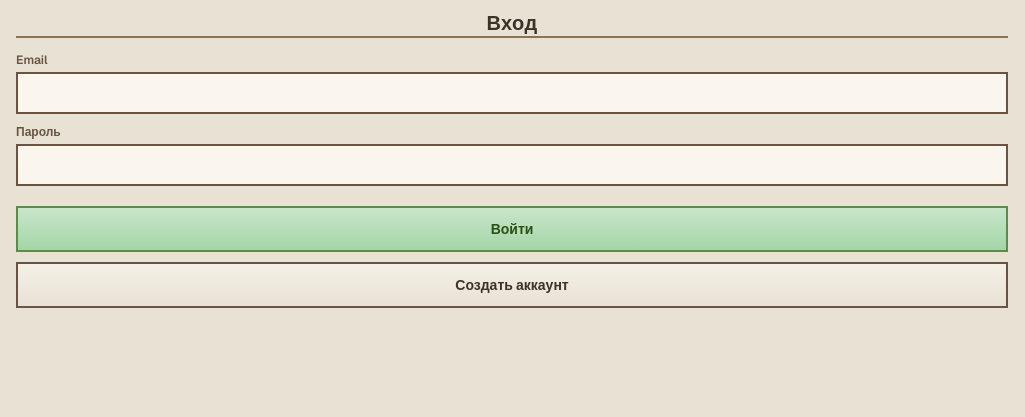
Test case: LoginView › показывает ошибку при слишком коротком имени
Click the button "Создать аккаунт": (512,285) [16, 262, 1008, 308]
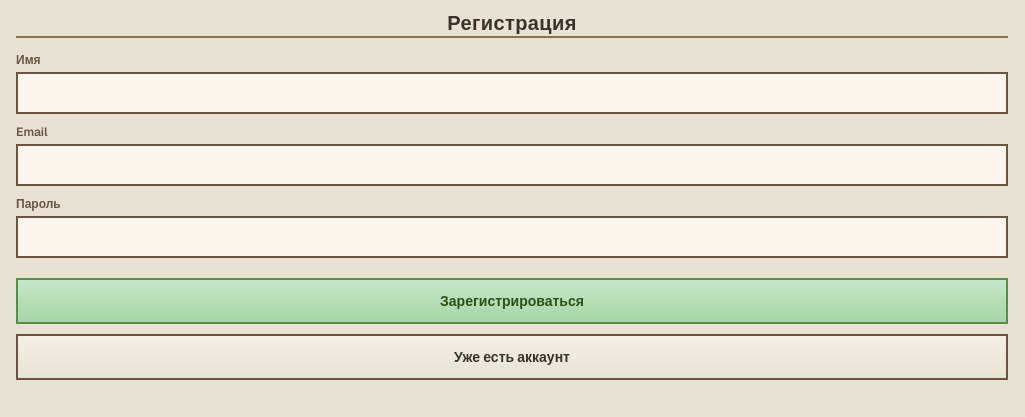
In the field labelled "Имя": (512,93) [16, 72, 1008, 114], type "ab"
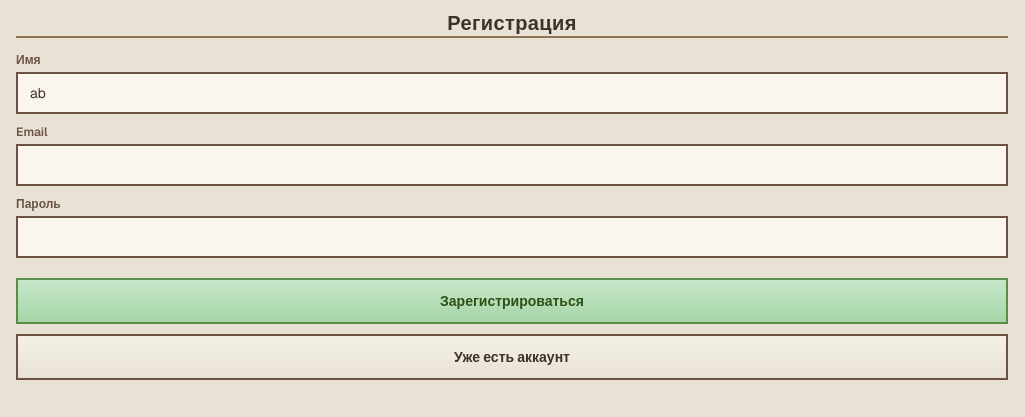
Leave the field labelled "Имя", box [16, 72, 1008, 114]
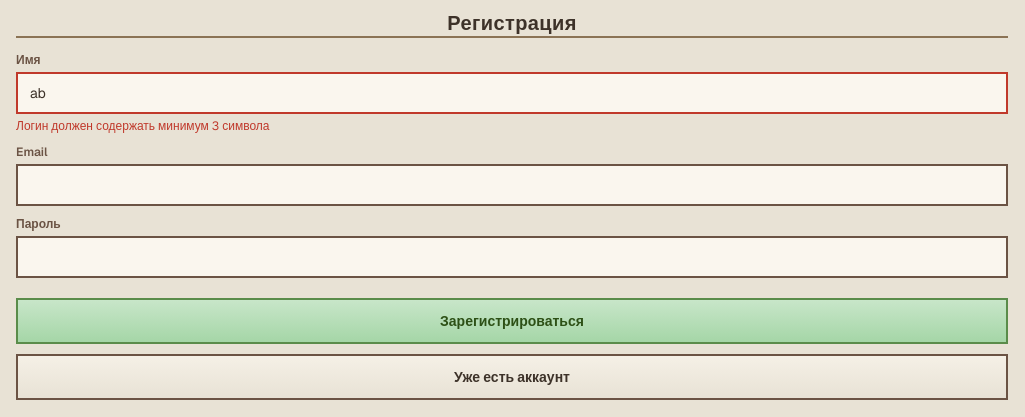
Expected: the text "Логин должен содержать минимум 3 символа" is shown, [16, 118, 270, 134]
